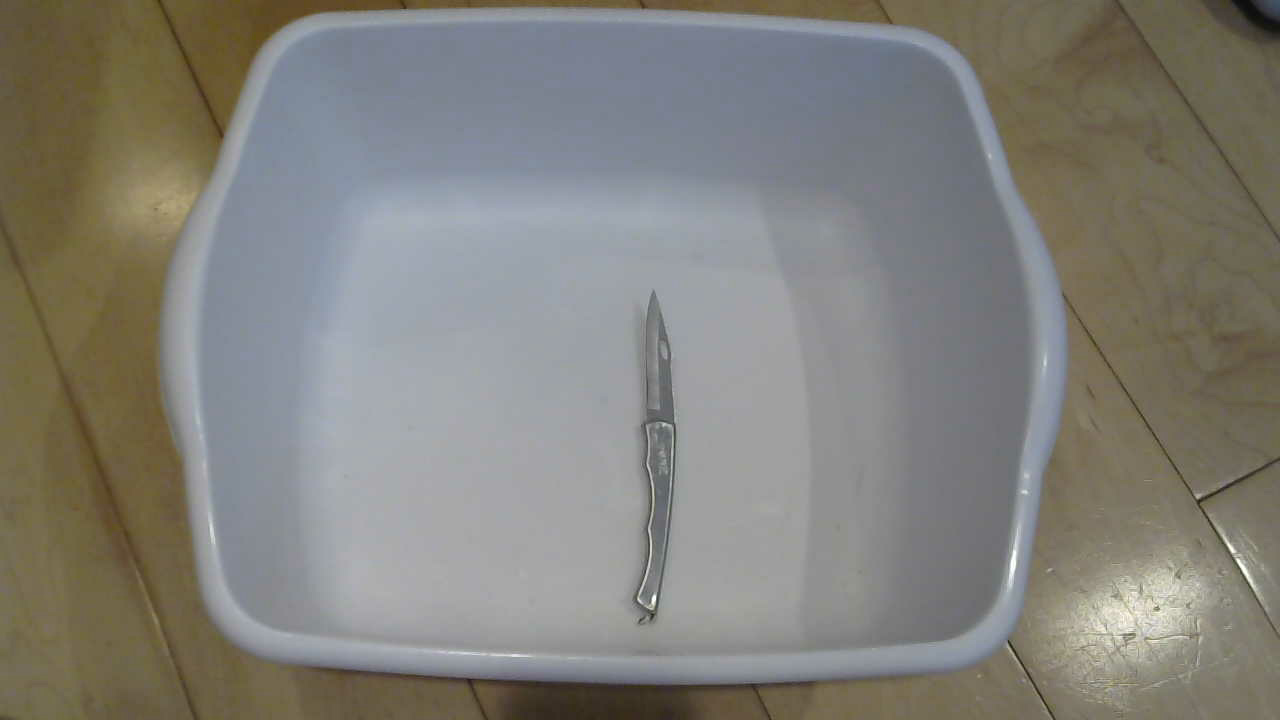knife: (582, 295, 701, 627)
